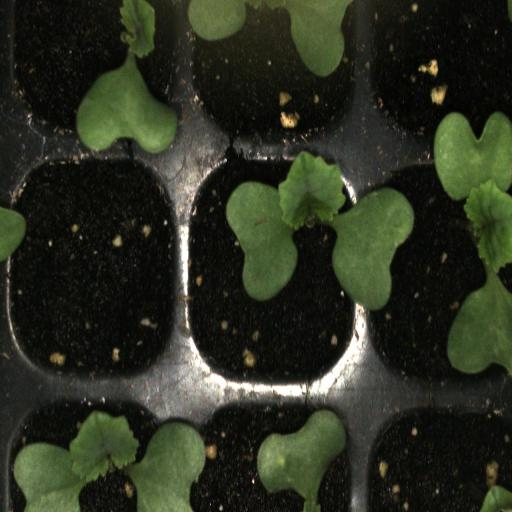noseedling: (8, 149, 184, 398), (363, 0, 512, 143)
seedling: (182, 144, 362, 398), (364, 143, 512, 401), (5, 0, 181, 148), (1, 400, 184, 512)
